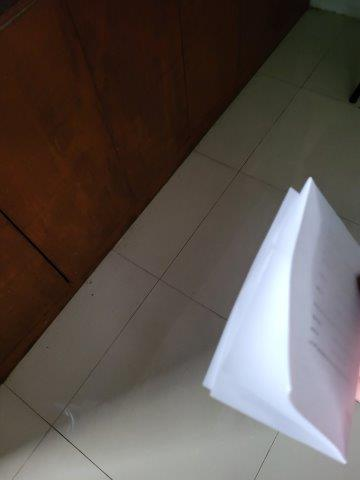kertas: (200, 177, 360, 462)
